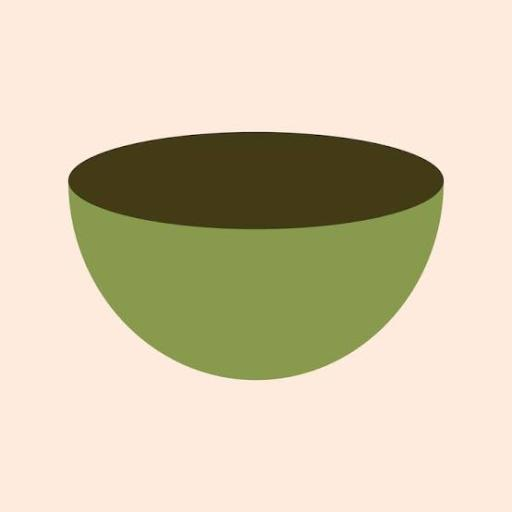Bowl: (69, 133, 443, 379)
